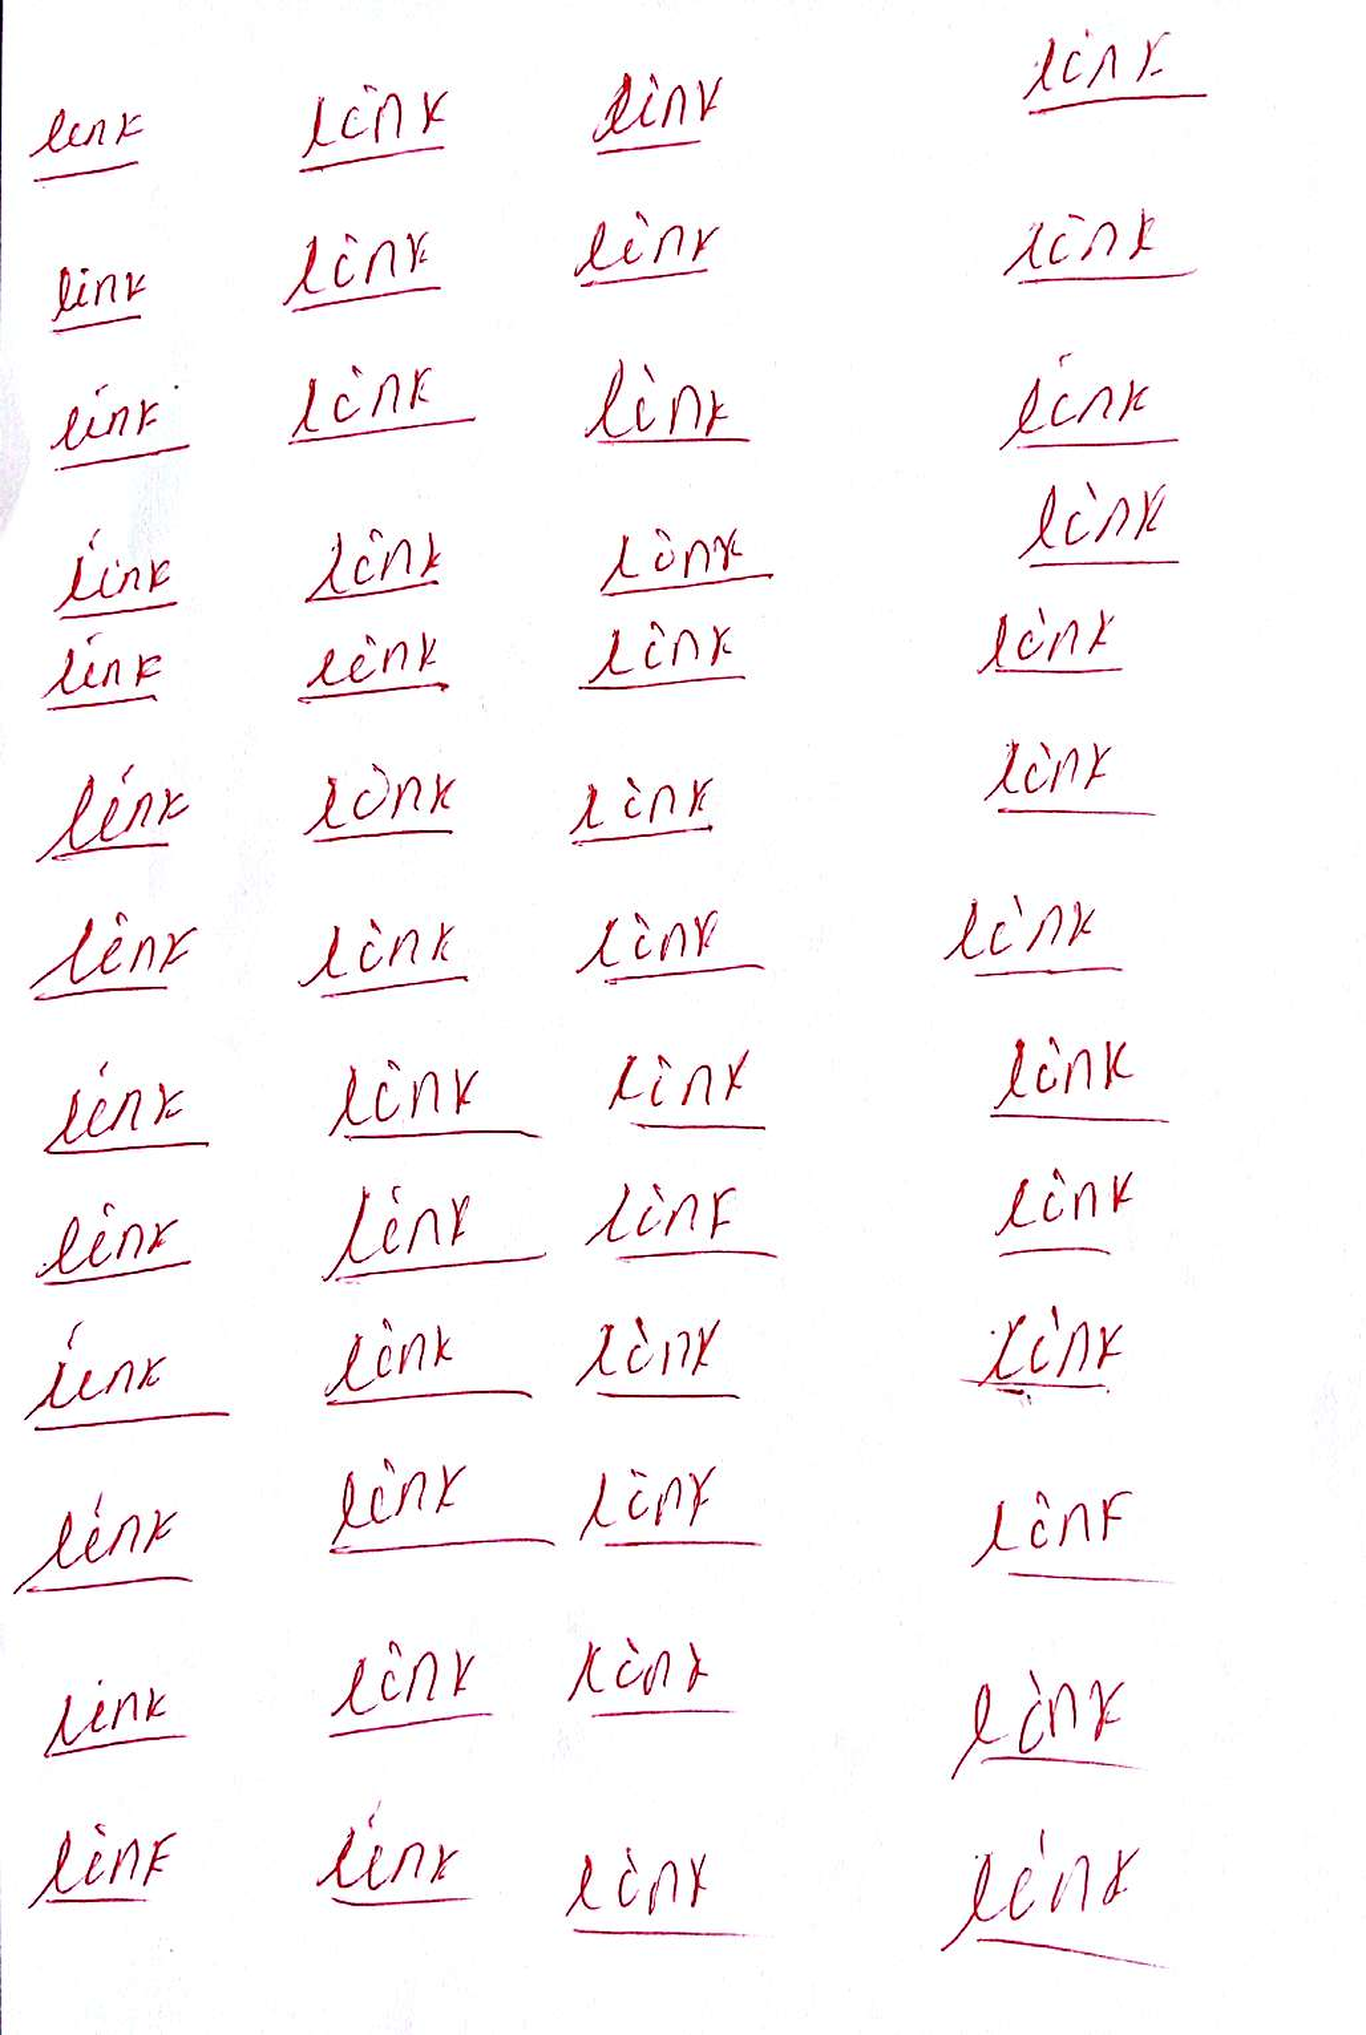Link: (932, 1828, 1154, 1960), (17, 1320, 236, 1434), (319, 1183, 550, 1283), (326, 1450, 527, 1562), (996, 348, 1185, 466), (947, 1663, 1127, 1783), (12, 1489, 197, 1605), (316, 1317, 532, 1415), (575, 1450, 774, 1555), (967, 1480, 1166, 1582), (314, 1633, 486, 1750), (299, 1806, 476, 1913), (41, 1050, 210, 1159), (553, 1837, 720, 1947), (572, 355, 758, 453), (21, 1809, 188, 1918), (1021, 21, 1207, 117), (284, 357, 473, 450), (1002, 203, 1201, 290), (29, 761, 188, 867), (26, 909, 197, 1008), (566, 1626, 730, 1729), (279, 216, 439, 320), (567, 1312, 741, 1405), (294, 78, 451, 180), (938, 892, 1127, 976), (326, 1058, 514, 1142), (967, 1305, 1134, 1398), (46, 378, 194, 483), (27, 1197, 189, 1293), (991, 1032, 1153, 1126), (604, 1047, 771, 1136), (588, 1175, 771, 1255), (592, 517, 764, 601), (297, 913, 470, 997), (1015, 482, 1172, 573), (588, 67, 729, 168), (32, 1672, 181, 1764), (991, 1165, 1137, 1258), (572, 909, 746, 985), (50, 527, 186, 625), (297, 521, 447, 610), (576, 620, 746, 697), (572, 207, 723, 293), (26, 630, 175, 712), (982, 736, 1134, 816), (974, 601, 1124, 681), (306, 764, 456, 837), (26, 101, 151, 187), (296, 633, 447, 704), (567, 773, 717, 840), (47, 255, 151, 340)
